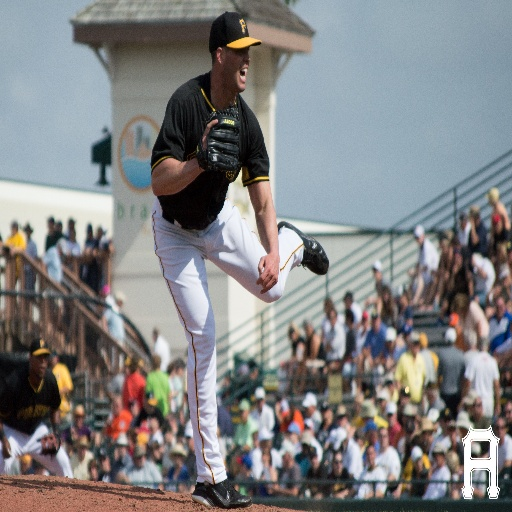hand: (253, 233, 289, 295), (200, 117, 219, 152), (2, 438, 12, 460)
